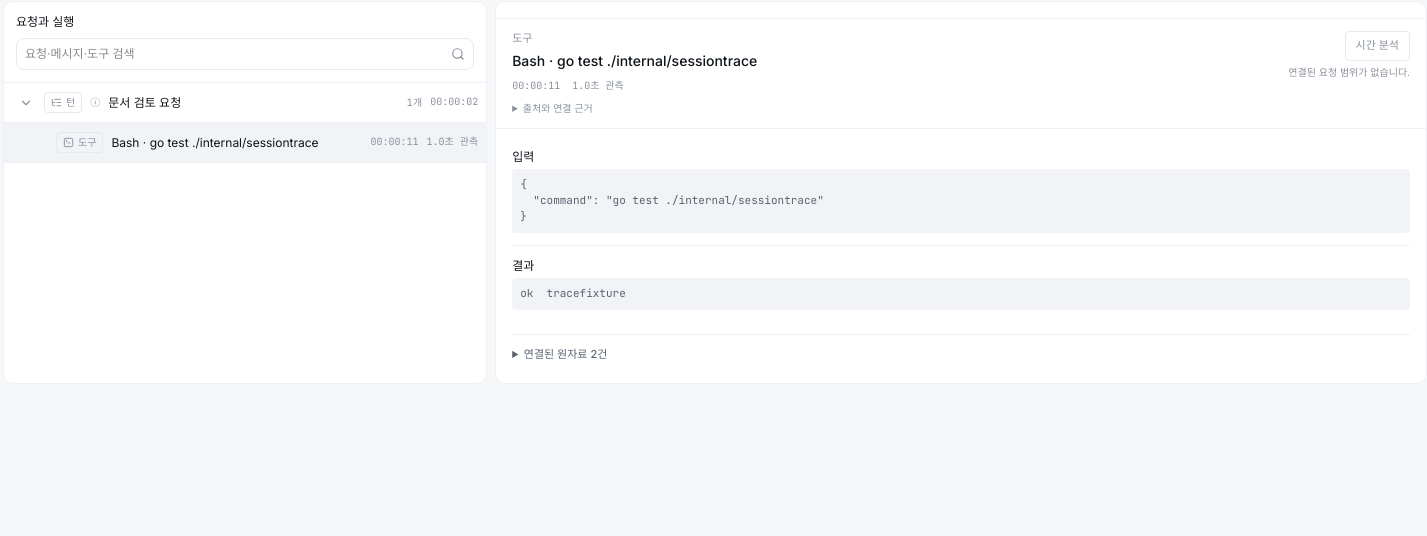
Scenario: shows source records only after opening the raw-data section
What coordinates should you click on to do the following:
click the heading "연결된 원자료 2건"
I would click on:
 (566, 354)
Its box is [524, 347, 607, 361].
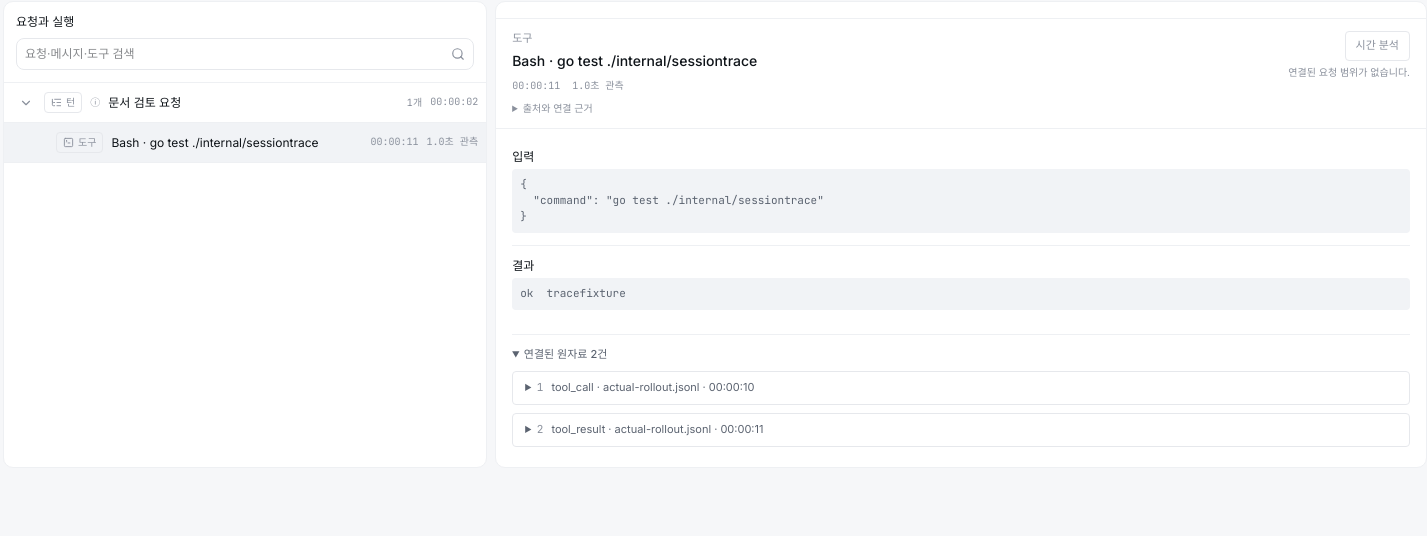
Result: the heading "1tool_call · actual-rollout.jsonl · 00:00:10" is shown
What coordinates should you click on to do the following:
click the heading "1tool_call · actual-rollout.jsonl · 00:00:10"
I would click on:
 (646, 387)
Its box is [537, 380, 754, 394].
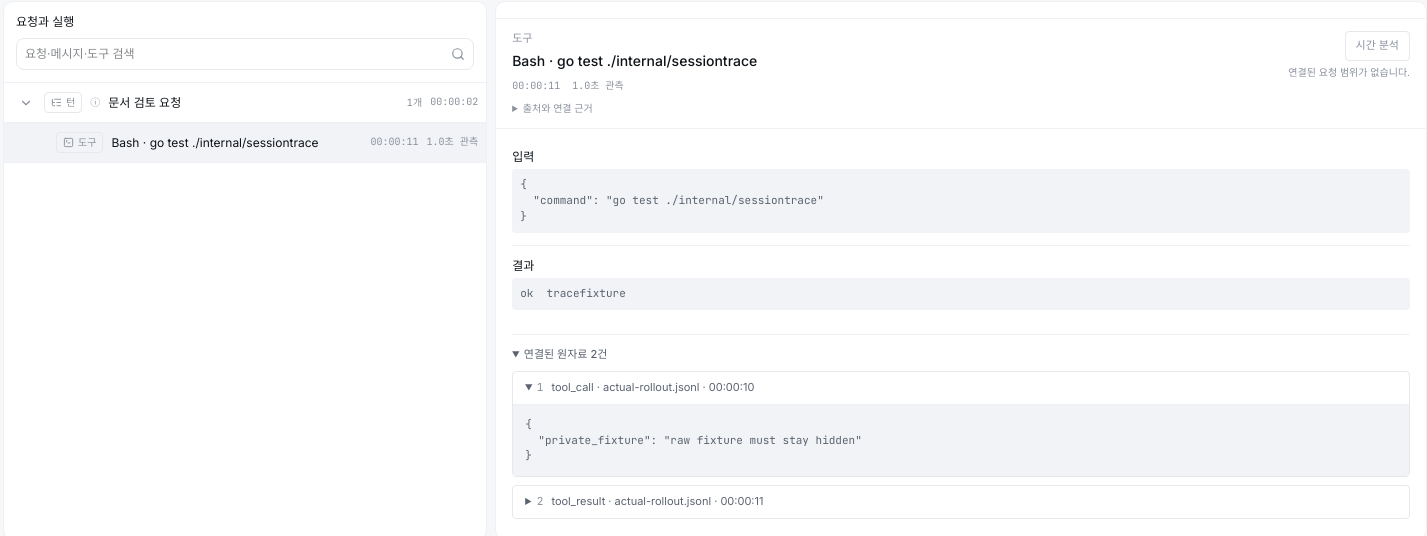
Result: the text "{ \"private_fixture\": \"raw fixture must stay hidden\" }" is shown 2 times
